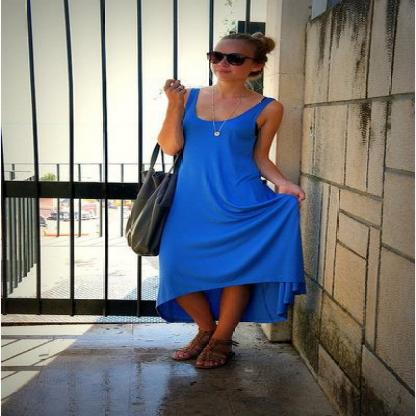bag: (123, 125, 186, 257)
dress: (150, 91, 302, 324)
shoe: (172, 341, 238, 365)
sunglass: (212, 52, 246, 65)
